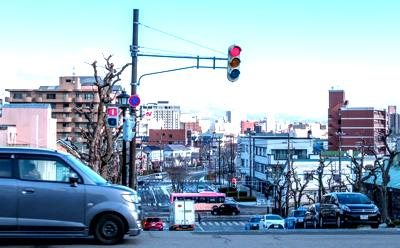International Road Signal Light: (227, 44, 242, 82)
